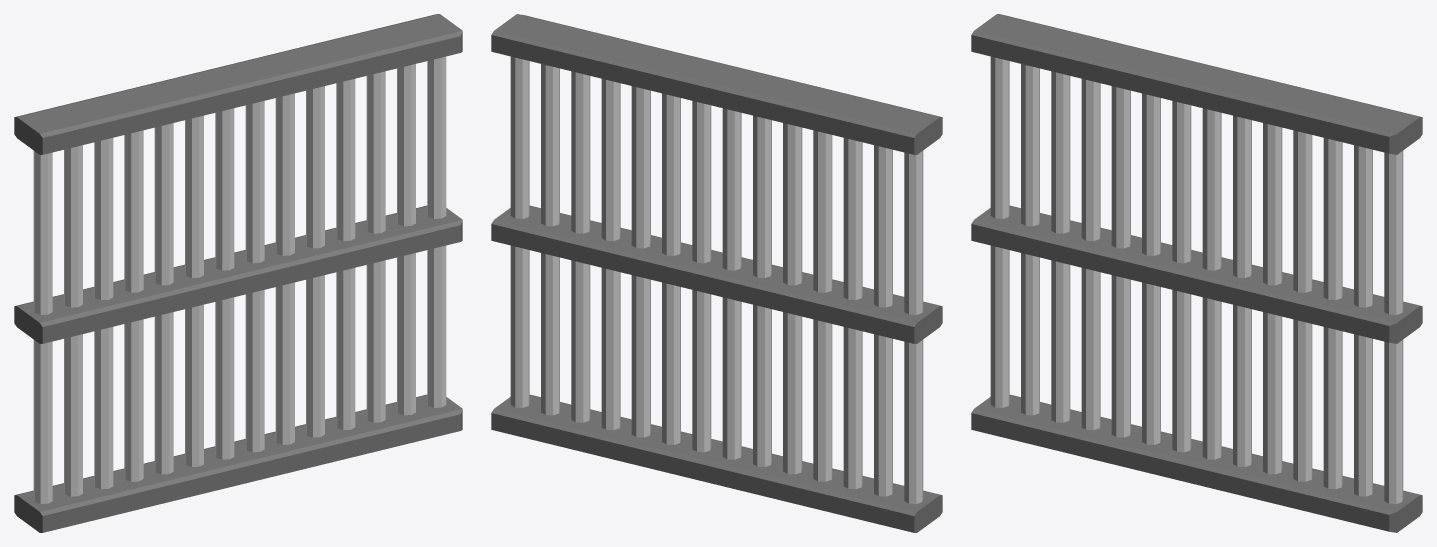
Rendered from PrisonBars.glb.
3 renders of one model, left to right at view 1: azimuth 30°, elevation 25°; view 2: azimuth 150°, elevation 25°; view 3: azimuth 330°, elevation 25°, orthographic.
Visible parts, largest first — view 1: Cage1; view 2: Cage1; view 3: Cage1.
Part boxes in pixels (bbox=[...]): Cage1: bbox=[14, 14, 462, 532]; Cage1: bbox=[491, 14, 942, 532]; Cage1: bbox=[971, 14, 1422, 532].
Bounding box in the file's own units: 3.71 × 3.34 × 0.4332.
1 material, 1 textured.
